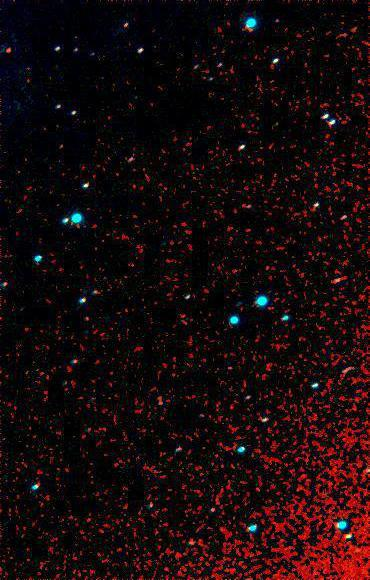star: (0, 36, 23, 66)
